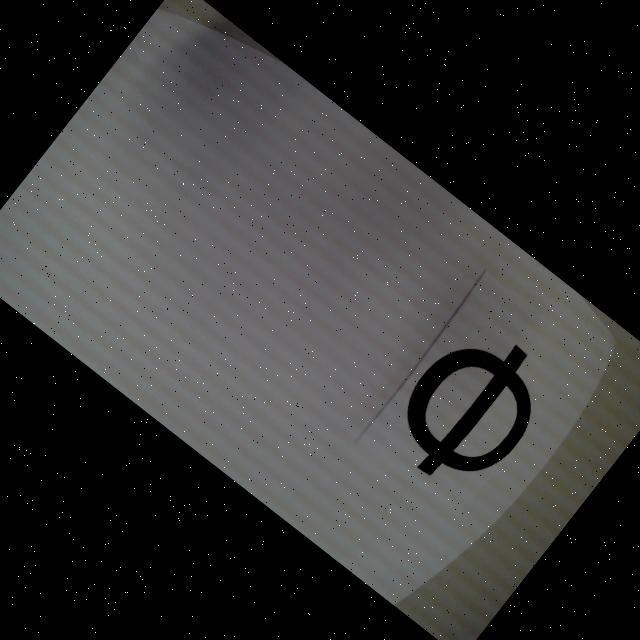PHI: (376, 310, 568, 508)
